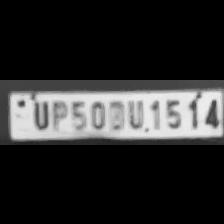0: (86, 97, 108, 129)
1: (183, 96, 200, 128), (146, 97, 162, 129)
4: (200, 95, 222, 127)
5: (162, 96, 182, 130), (67, 97, 87, 130)
P: (50, 97, 68, 129)
U: (28, 98, 52, 130), (125, 97, 145, 129)
